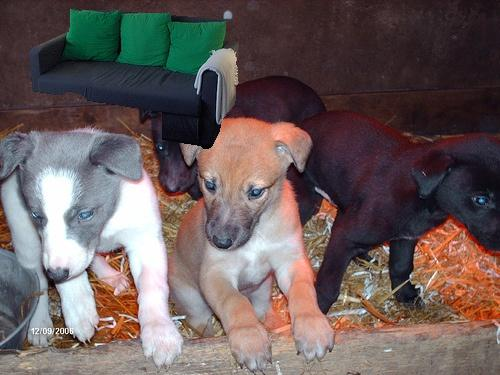tampered: (30, 9, 239, 149)
